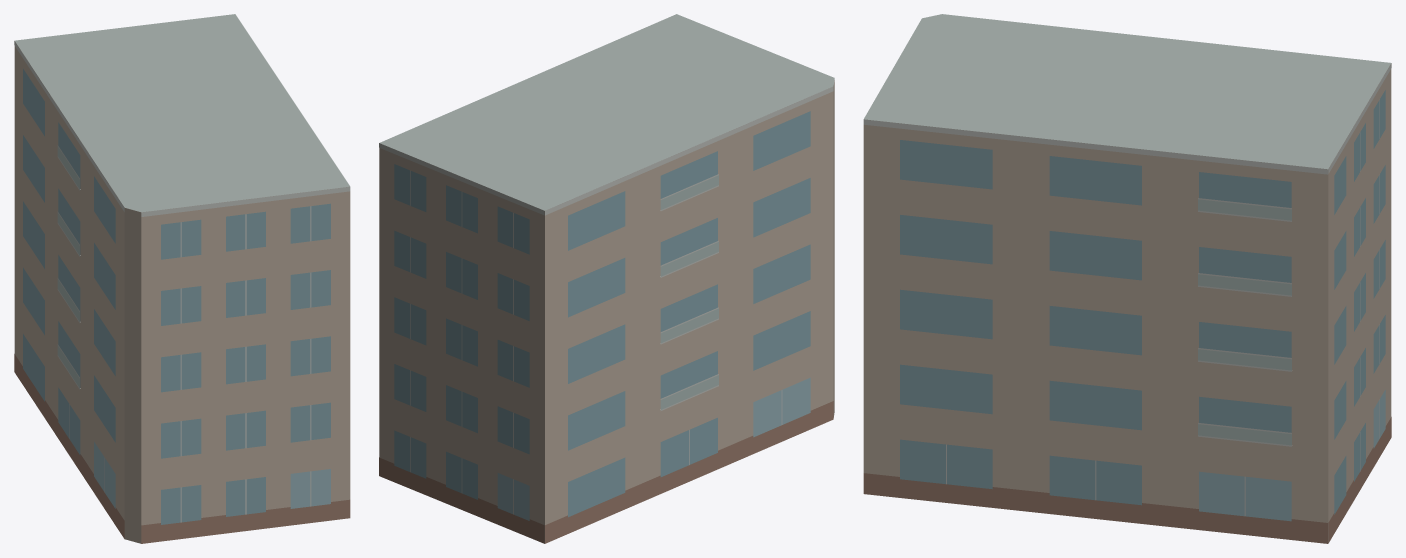
Rendered from survey-upis-32752813.glb.
3 renders of one model, left to right at view 1: azimuth 30°, elevation 25°; view 2: azimuth 150°, elevation 25°; view 3: azimuth 270°, elevation 25°, orthographic. The views are drawn at different scales.
Parts seen in each view (by area): view 1: survey-upis-32752813.tmp; view 2: survey-upis-32752813.tmp; view 3: survey-upis-32752813.tmp.
Part boxes in pixels (left/top/right/bottom): survey-upis-32752813.tmp: left=14, top=14, right=350, bottom=543; survey-upis-32752813.tmp: left=379, top=14, right=834, bottom=543; survey-upis-32752813.tmp: left=863, top=14, right=1391, bottom=543.
Size of the model in its own units: 15.12 by 17 by 21.72.
